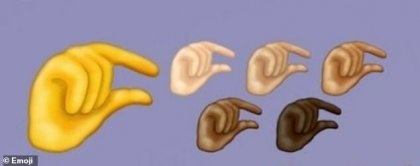megal: (20, 36, 160, 157), (315, 30, 392, 99), (192, 94, 267, 155), (276, 94, 344, 159), (239, 36, 310, 98), (169, 36, 236, 96)
